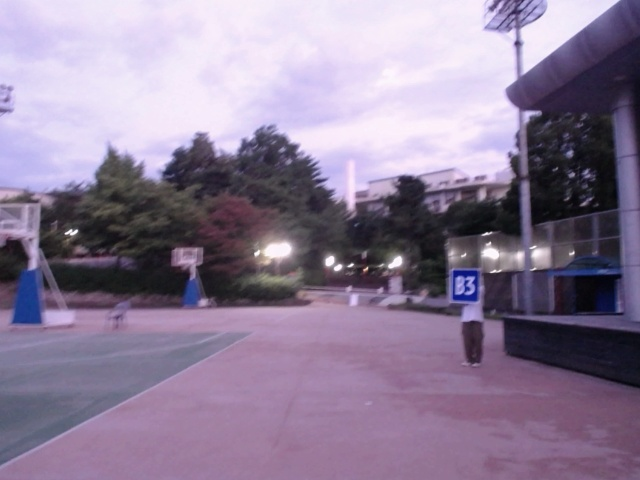delivery_b3: (449, 266, 482, 304)
